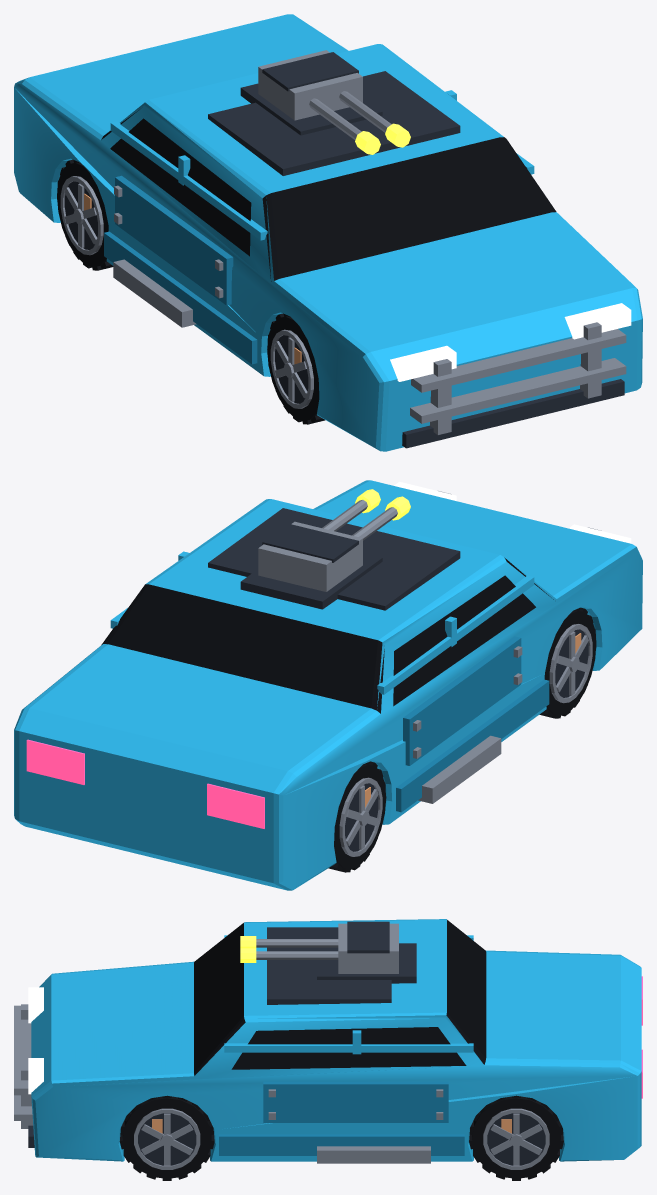
File: rhino_x4.glb
The picture shows the model from 3 angles, top to bottom: view 1: azimuth 30°, elevation 25°; view 2: azimuth 150°, elevation 25°; view 3: azimuth 270°, elevation 25°; orthographic projection. The views are drawn at different scales.
Parts seen in each view (by area): view 1: chassis, gun, wheel_FR, wheel_RR; view 2: chassis, gun, wheel_RR, wheel_FR; view 3: chassis, wheel_FL, wheel_RL, gun.
Boxes of the visible parts, bbox=[...] form: chassis: bbox=[14, 14, 642, 451]; gun: bbox=[258, 50, 410, 154]; wheel_FR: bbox=[267, 313, 325, 424]; wheel_RR: bbox=[57, 159, 113, 270]; chassis: bbox=[14, 480, 642, 890]; gun: bbox=[258, 489, 410, 591]; wheel_RR: bbox=[328, 761, 386, 872]; wheel_FR: bbox=[539, 607, 596, 718]; chassis: bbox=[14, 919, 642, 1163]; wheel_FL: bbox=[119, 1095, 214, 1180]; wheel_RL: bbox=[469, 1095, 563, 1180]; gun: bbox=[240, 921, 398, 973].
Bounding box in the file's own units: 2.34 × 1.6 × 4.8.
